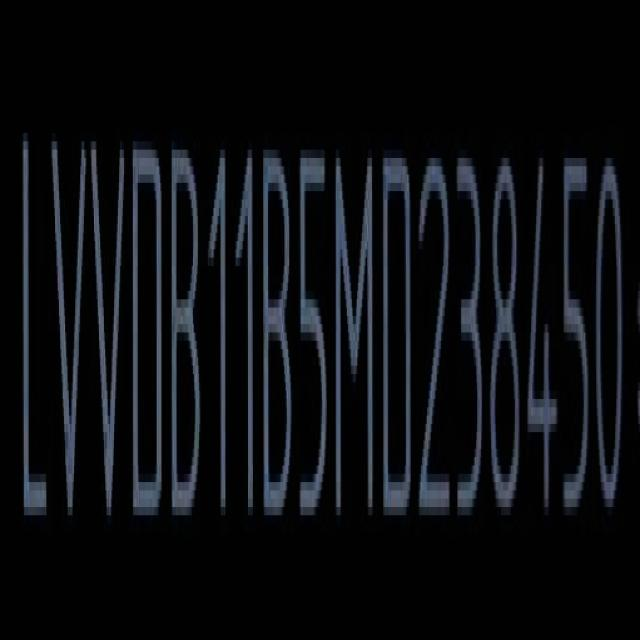0: (598, 154, 628, 522)
1: (210, 140, 234, 532), (236, 141, 258, 530)
2: (418, 151, 454, 530)
3: (453, 133, 484, 526)
4: (527, 160, 558, 523)
5: (299, 142, 331, 528), (562, 150, 593, 522)
8: (491, 157, 524, 521)
B: (172, 142, 206, 530), (262, 139, 295, 528)
D: (132, 136, 168, 528), (384, 143, 417, 527)
L: (19, 141, 52, 531)
M: (334, 142, 378, 527)
V: (92, 135, 130, 533), (50, 132, 86, 534)
